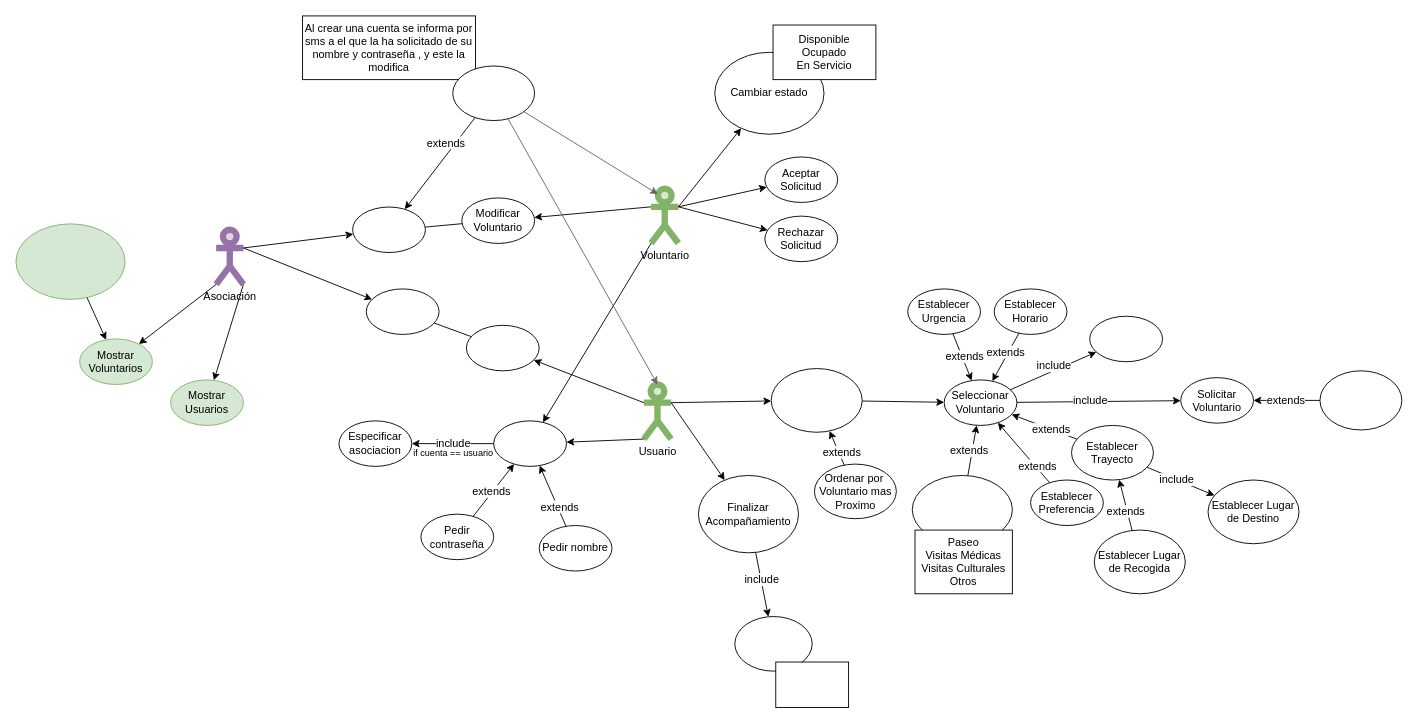
Some shapes in this 1418 by 723 pixel diagram are drawn without their labels. The shapes that lost their labels are listed below. From the top down, each one's centre as x and y in pixels, then its label:
At point (493, 93): "Informar a demandante de la cuenta".
At point (388, 229): "Crear Voluntario".
At point (70, 261): "Mostrar Acompañamientos del Voluntario".
At point (402, 311): "Crear Usuario".
At point (502, 347): "Modificar Usuario".
At point (1126, 338): "Cancelar Seleccion".
At point (816, 400): "Mostrar Voluntarios Disponibles".
At point (1360, 400): "Enviar Mensaje al Voluntario".
At point (529, 443): "Registrarse".
At point (961, 509): "Establecer Tipo de acompañamiento".
At point (773, 643): "Calificar Servicio".
At point (812, 684): "Del 1 al 5".
